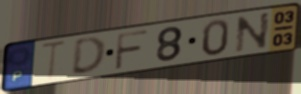0: (201, 17, 233, 58)
8: (155, 26, 184, 63)
D: (69, 35, 108, 77)
F: (113, 28, 151, 72)
N: (234, 10, 273, 55)
T: (38, 39, 70, 83)
